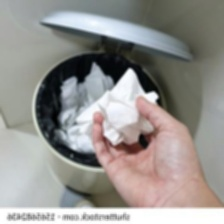tissue: (71, 63, 163, 150), (52, 56, 118, 135)
